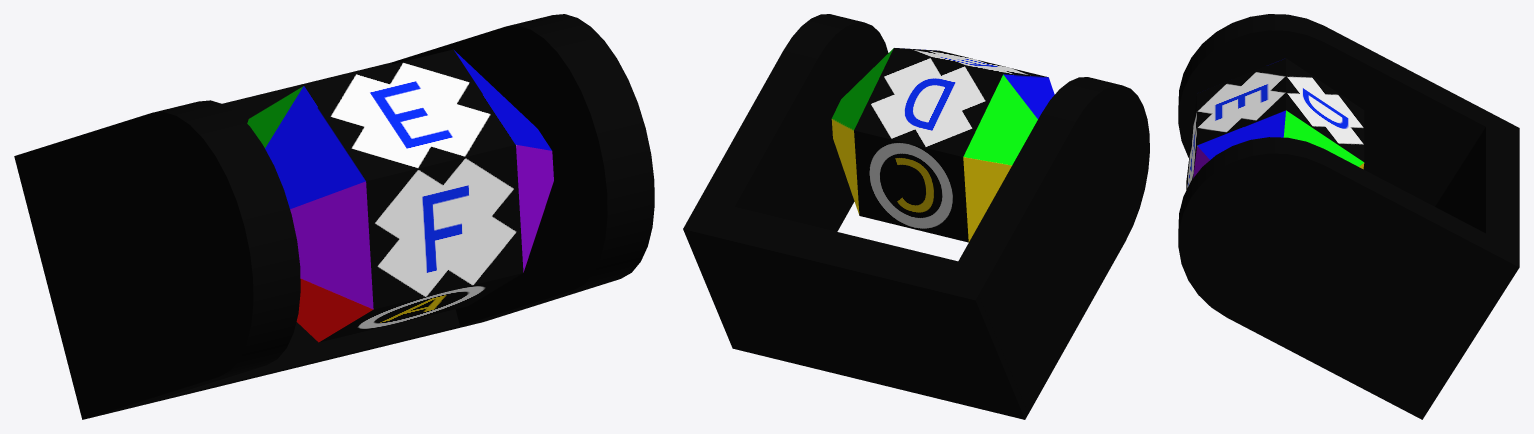
Rendered from Score Spinner.fbx.
3 renders of one model, left to right at view 1: azimuth 30°, elevation 25°; view 2: azimuth 150°, elevation 25°; view 3: azimuth 270°, elevation 25°, orthographic. The views are drawn at different scales.
Parts seen in each view (by area): view 1: Circle, Cylinder, Cylinder.001, Cube, Cube.002, Cube.001; view 2: Cube.002, Circle, Cube, Cylinder, Cube.001, Cylinder.001; view 3: Cube.001, Cylinder.001, Cube, Circle, Cube.002, Cylinder.
Boxes of the visible parts, bbox=[...] form: Circle: bbox=[247, 49, 553, 342]; Cylinder: bbox=[117, 100, 300, 377]; Cylinder.001: bbox=[476, 14, 654, 291]; Cube: bbox=[18, 113, 263, 418]; Cube.002: bbox=[14, 62, 486, 419]; Cube.001: bbox=[392, 27, 618, 331]; Cube.002: bbox=[683, 198, 1028, 419]; Circle: bbox=[831, 48, 1054, 242]; Cube: bbox=[945, 114, 1124, 413]; Cylinder: bbox=[1041, 77, 1149, 278]; Cube.001: bbox=[700, 51, 854, 231]; Cylinder.001: bbox=[783, 14, 888, 215]; Cube.001: bbox=[1227, 149, 1512, 416]; Cylinder.001: bbox=[1178, 137, 1368, 328]; Cube: bbox=[1306, 26, 1485, 206]; Circle: bbox=[1186, 58, 1364, 189]; Cube.002: bbox=[1416, 110, 1519, 419]; Cylinder: bbox=[1178, 14, 1323, 158].
Bounding box in the file's own units: 340 × 303 × 351.
Materials: 2 (1 with a texture image).
